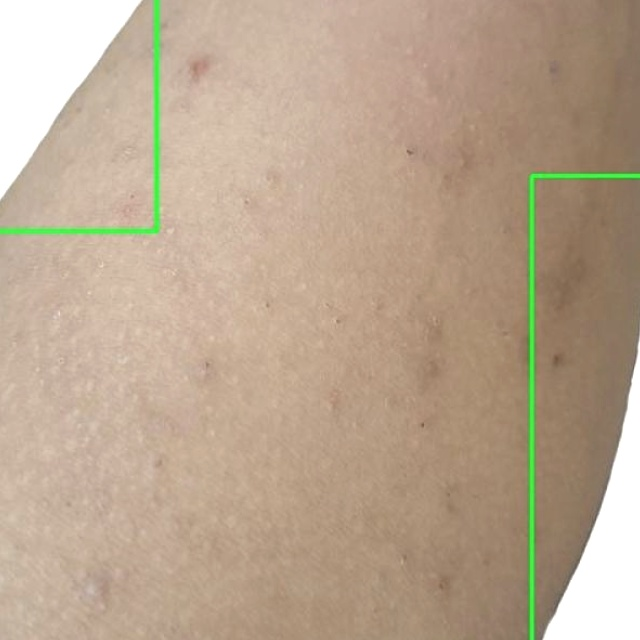Scabies: (531, 175, 639, 639), (0, 0, 157, 230)
